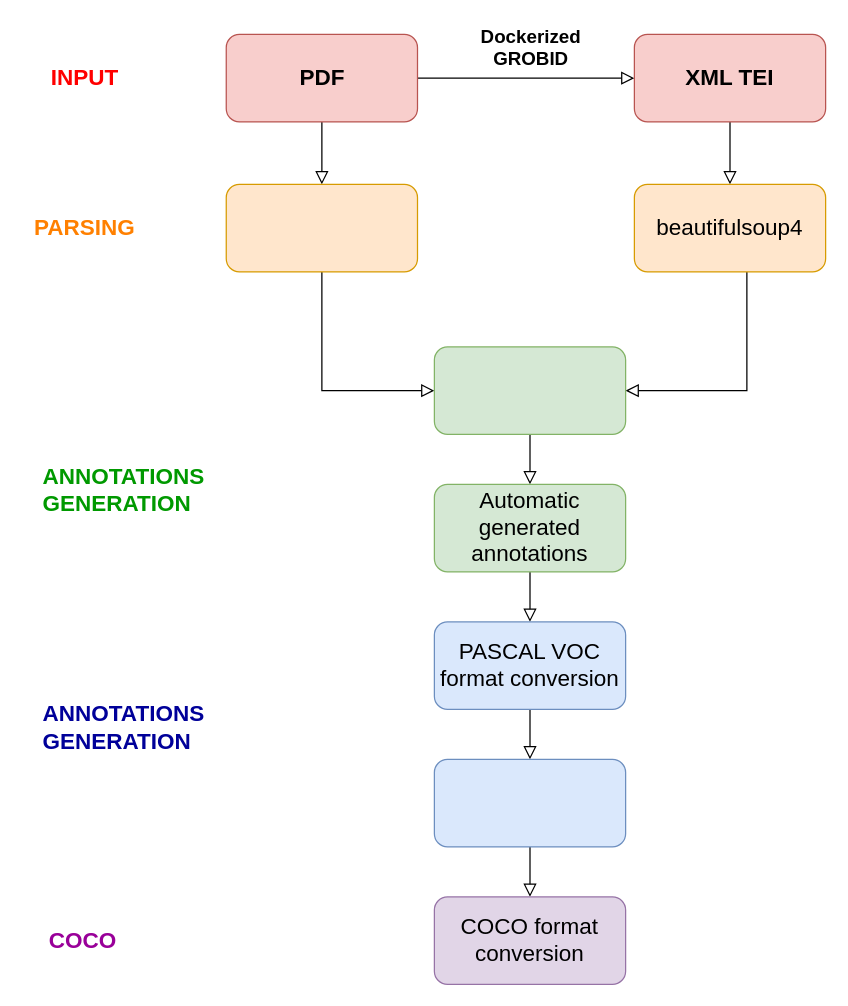
Some shapes in this 848 by 1006 pixel diagram are drawn without their labels. Each missing label, with the centre of its shape:
Information alignment: (x=529, y=390)
labelImg corections: (x=529, y=802)
PDFMiner: (x=321, y=227)
